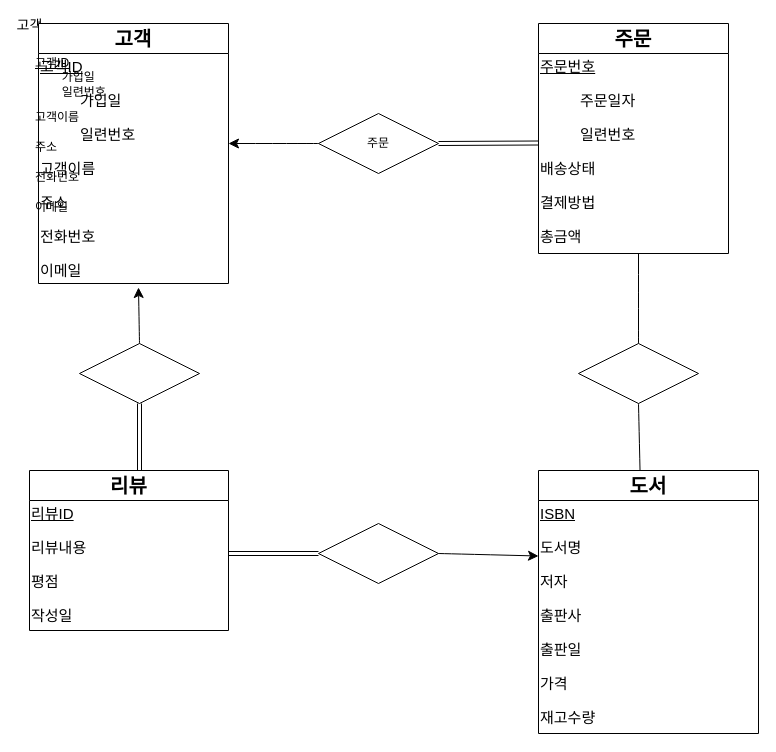
This 776x752 diagram has some shape labels left out. Each missing label, with the centre of its shape:
리뷰대상도서: (x=378, y=553)
리뷰작성: (x=139, y=373)
주문내역: (x=638, y=373)
